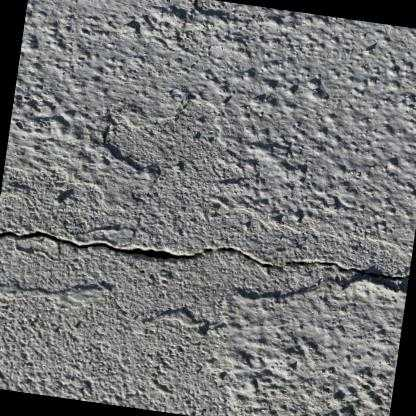crack: (0, 226, 409, 282)
